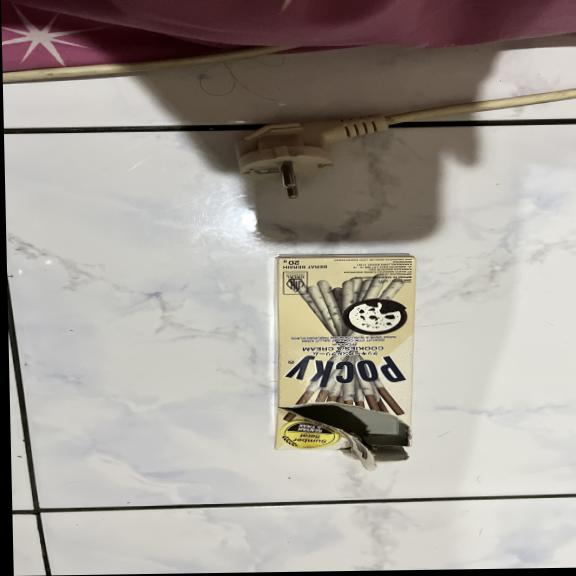Kertas: (269, 255, 420, 451)
